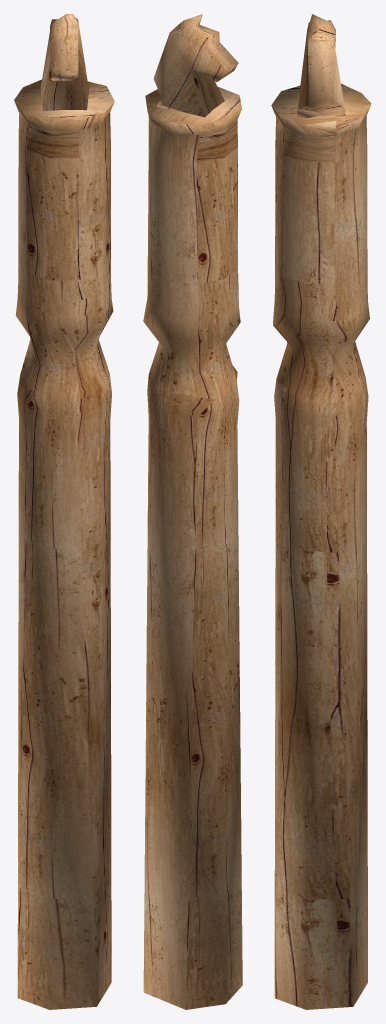
File: serge2.glb
3 renders of one model, left to right at view 1: azimuth 90°, elevation 25°; view 2: azimuth 150°, elevation 25°; view 3: azimuth 270°, elevation 25°, orthographic.
Visible parts, largest first — view 1: Сэргэ; view 2: Сэргэ; view 3: Сэргэ.
Boxes of the visible parts, left/top/right/bottom form: Сэргэ: left=14, top=14, right=114, bottom=1009; Сэргэ: left=143, top=14, right=242, bottom=1009; Сэргэ: left=271, top=14, right=371, bottom=1009.
Size of the model in its own units: 0.1846 by 2.06 by 0.1923.
Materials: 1 (1 with a texture image).
